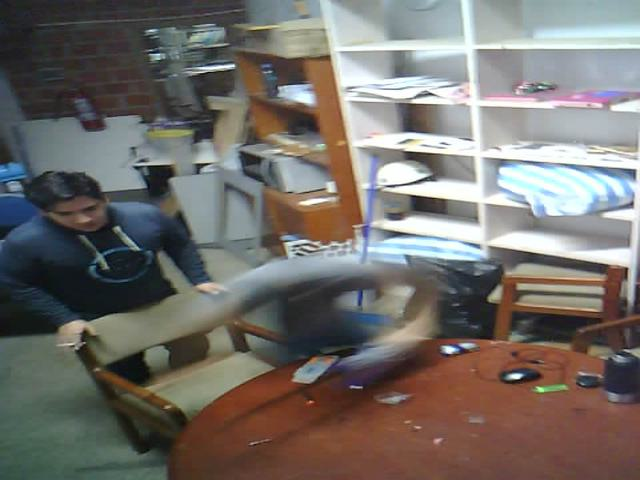person: (9, 154, 213, 458)
